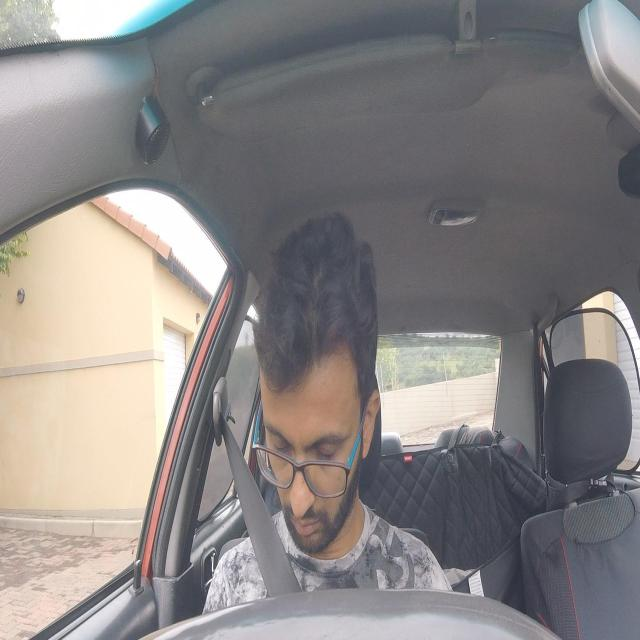close: (309, 427, 346, 466), (267, 422, 293, 459)
